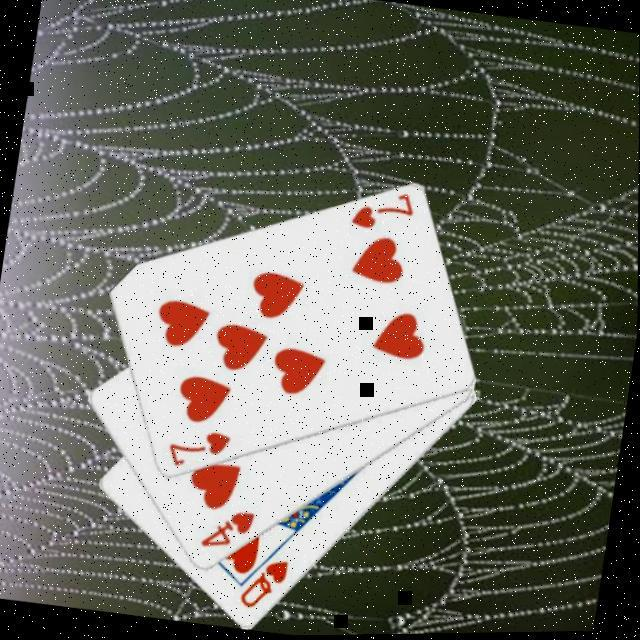4H: (196, 504, 258, 558)
7H: (346, 185, 420, 241), (162, 423, 234, 479)
QH: (235, 554, 293, 619)
